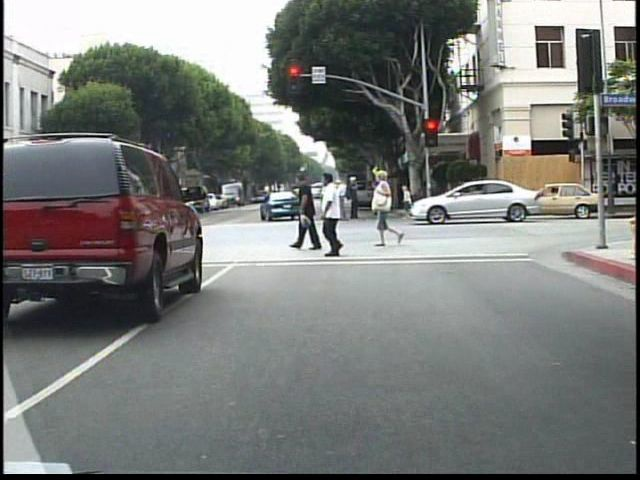person: (317, 170, 356, 258), (371, 168, 404, 250), (295, 169, 323, 256), (331, 175, 352, 222), (472, 169, 492, 215), (344, 173, 362, 221), (123, 184, 141, 229), (322, 180, 341, 222), (149, 183, 165, 232), (3, 195, 21, 238), (372, 179, 389, 222), (4, 199, 19, 236)
